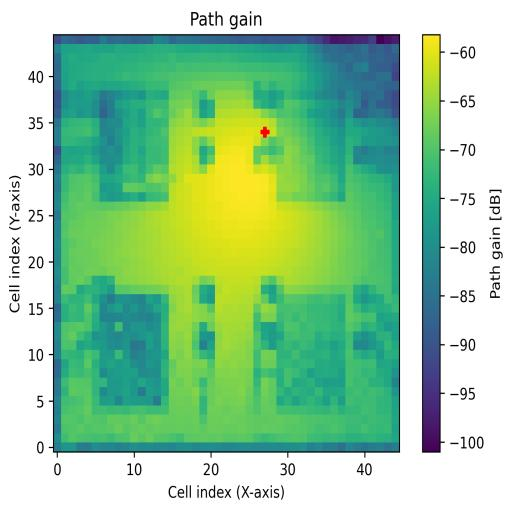Concrete: (277, 90, 345, 202)
Glass: (100, 89, 170, 201)
Metal: (277, 296, 347, 414)
Wood: (92, 294, 169, 413)
